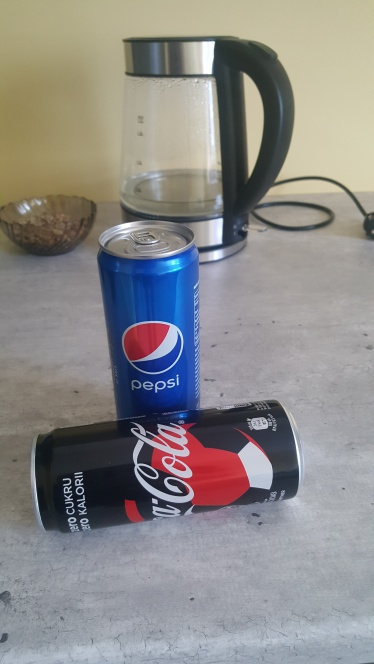colazero: (17, 393, 312, 539)
pepsi: (93, 213, 208, 480)
